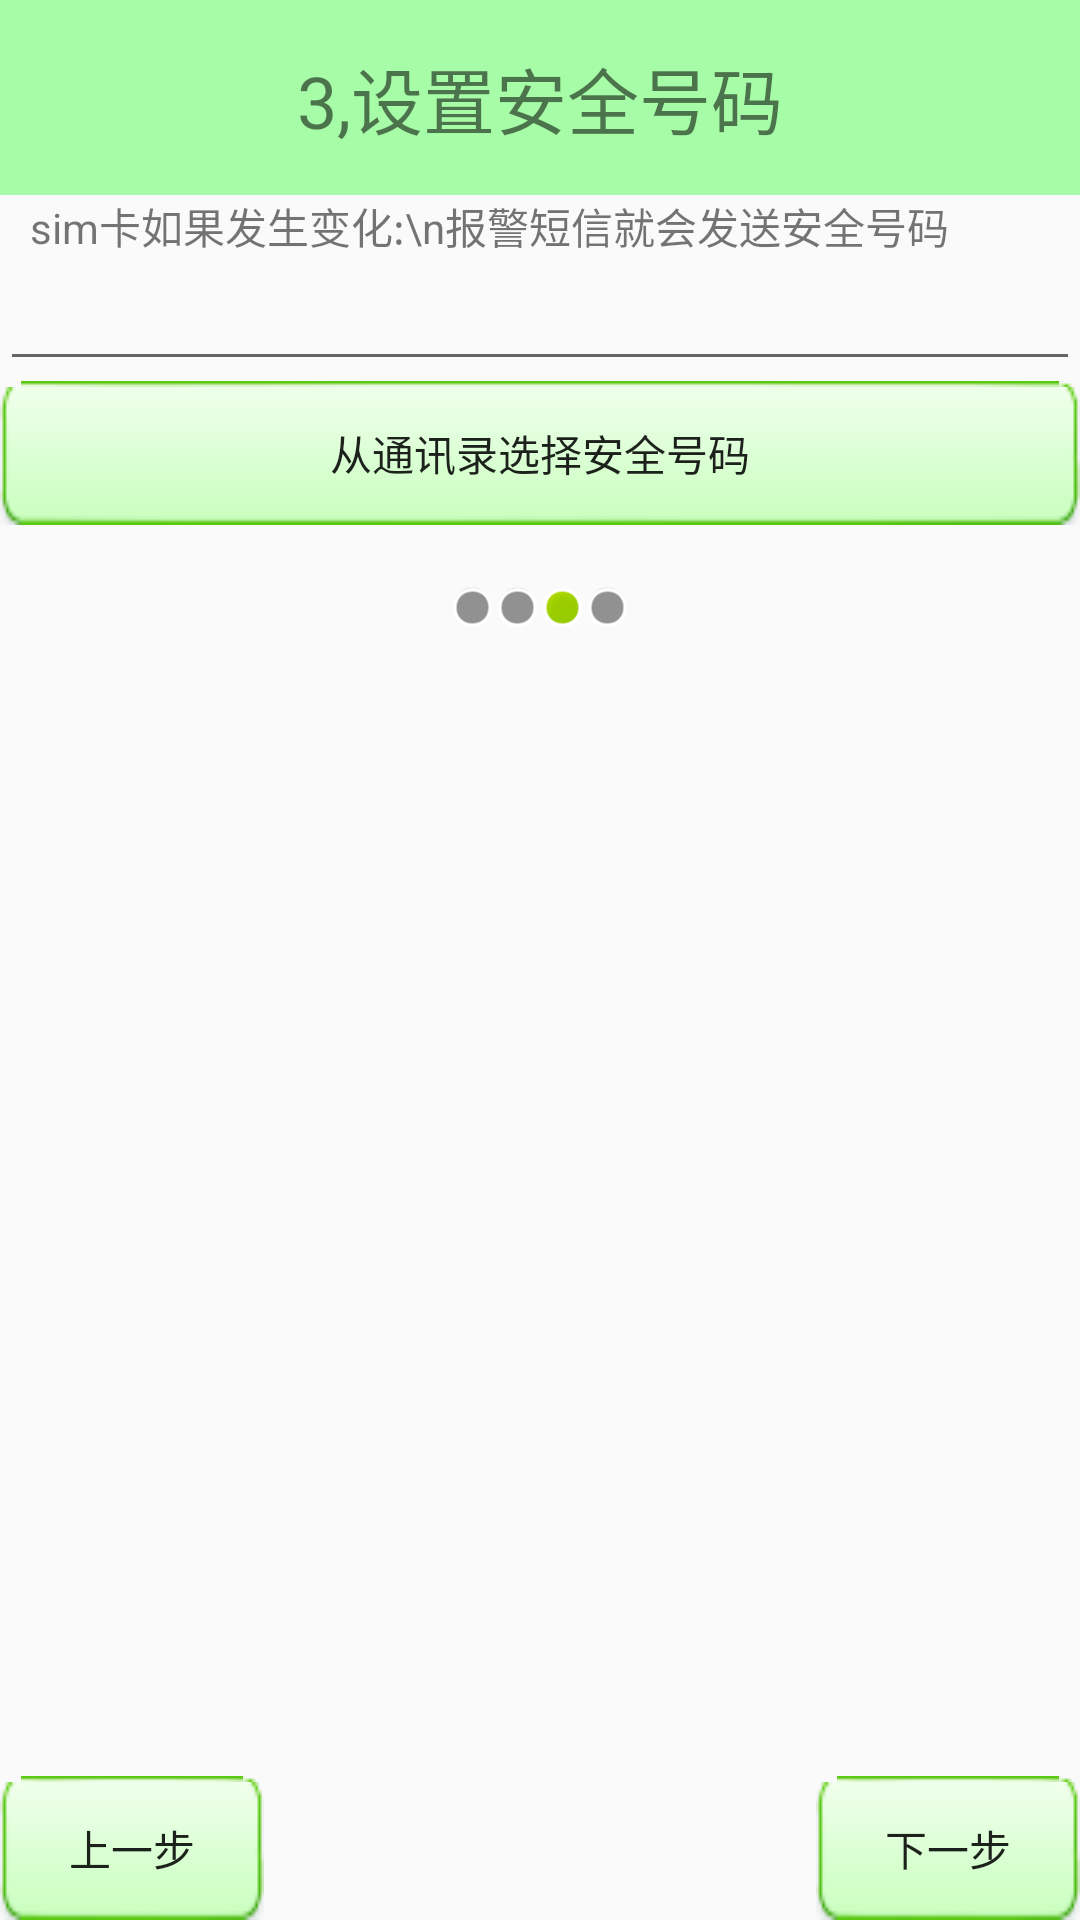

Where to tap for icons on this 1080px x 1920px app screen, as (x,y):
presence invisible: (472,607), (517,607), (607,607)
presence online: (562,607)
